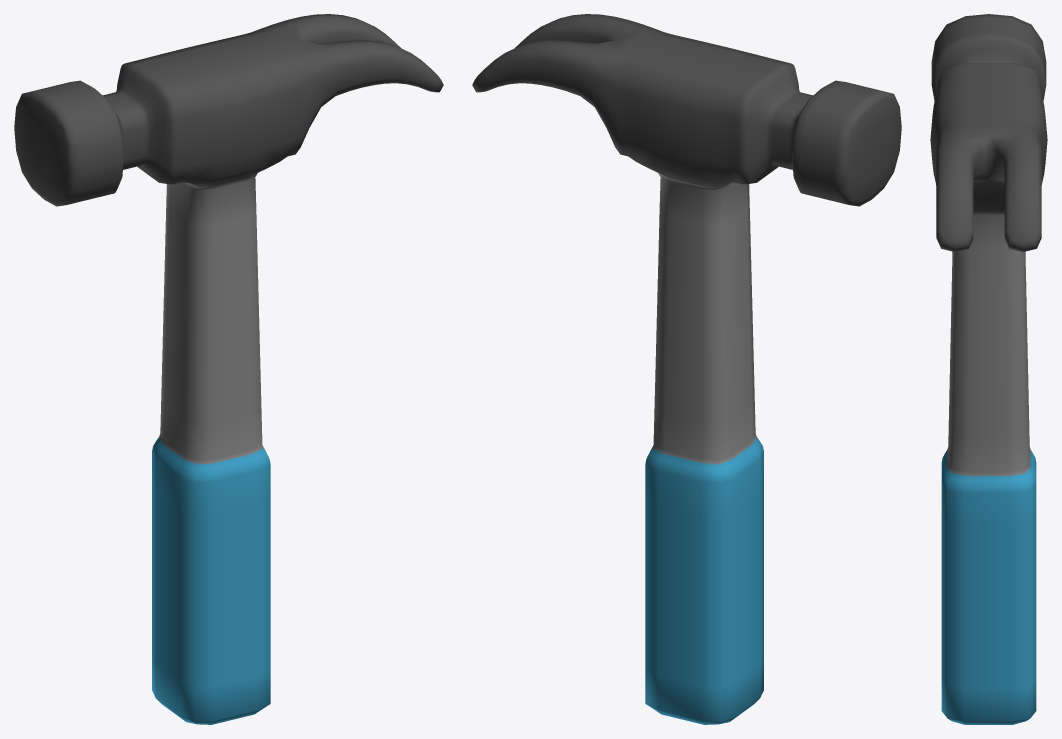
File: cartoon_hammer.glb
3 views of the same model, side by side, from view 1: azimuth 30°, elevation 25°; view 2: azimuth 150°, elevation 25°; view 3: azimuth 270°, elevation 25° (orthographic). The views are drawn at different scales.
Parts seen in each view (by area): view 1: instrumento_martillo; view 2: instrumento_martillo; view 3: instrumento_martillo.
Part boxes in pixels (bbox=[...]): instrumento_martillo: bbox=[14, 14, 443, 724]; instrumento_martillo: bbox=[472, 14, 901, 724]; instrumento_martillo: bbox=[930, 14, 1047, 724].
Bounding box in the file's own units: 0.8957 × 1.45 × 0.2493.
